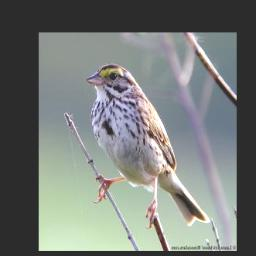Sparrow: (85, 62, 211, 230)
